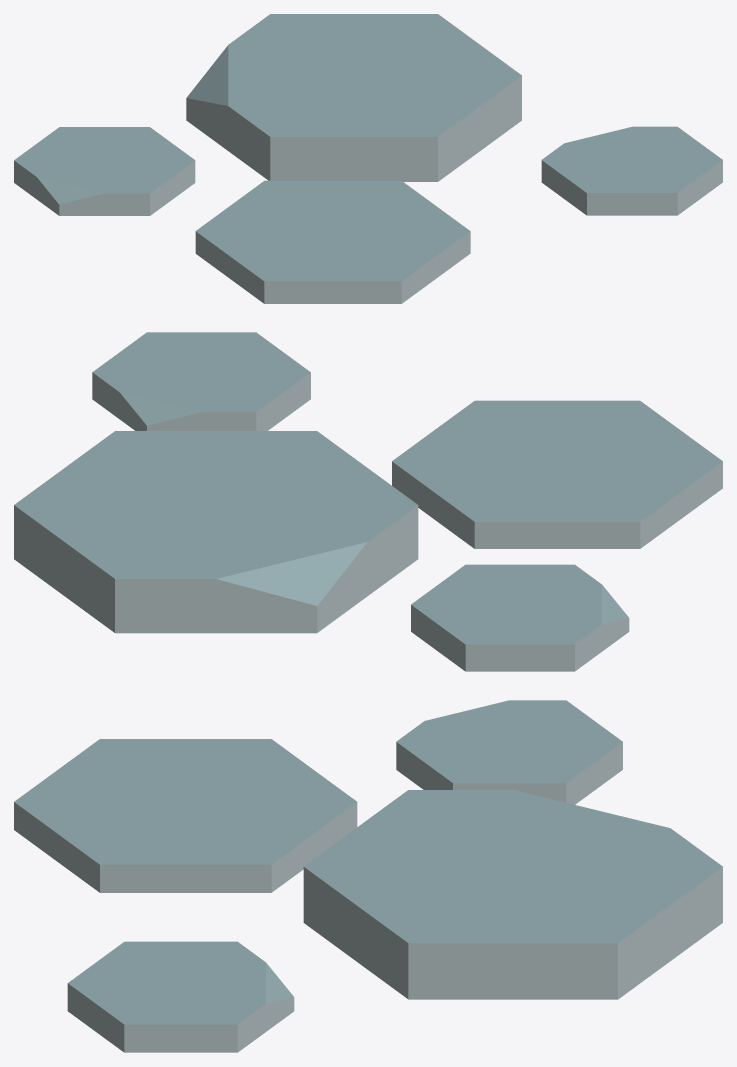
Rendered from path_stoneEnd.glb.
The picture shows the model from 3 angles, top to bottom: view 1: azimuth 30°, elevation 25°; view 2: azimuth 150°, elevation 25°; view 3: azimuth 270°, elevation 25°; orthographic projection. The views are drawn at different scales.
Visible parts, largest first — view 1: path_stoneEnd; view 2: path_stoneEnd; view 3: path_stoneEnd.
Part boxes in pixels (x1=…): path_stoneEnd: x1=14, y1=14, x2=722, y2=303; path_stoneEnd: x1=14, y1=332, x2=722, y2=671; path_stoneEnd: x1=14, y1=700, x2=722, y2=1052.
Bounding box in the file's own units: 0.6182 × 0.05 × 0.571.
